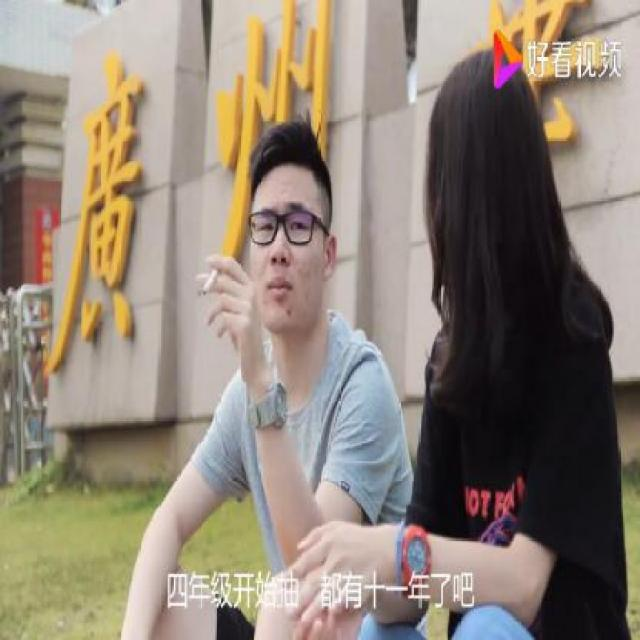smoke: (200, 255, 226, 303)
